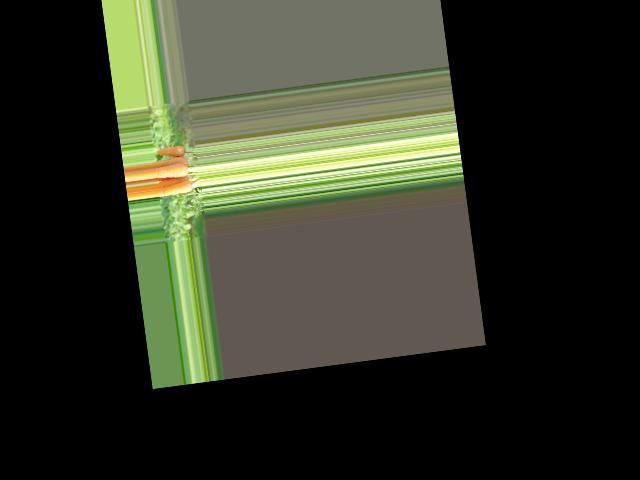carrot: (151, 142, 186, 161)
